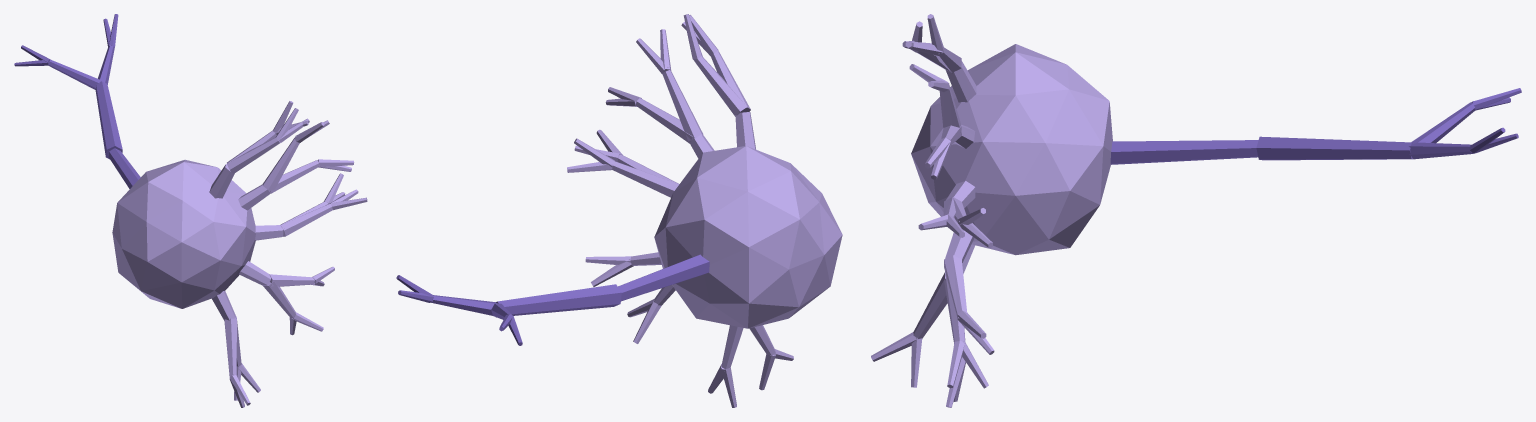
The model's file is neuron.obj.
3 views of the same model, side by side, from view 1: azimuth 30°, elevation 25°; view 2: azimuth 150°, elevation 25°; view 3: azimuth 270°, elevation 25° (orthographic). The views are drawn at different scales.
Visible parts, largest first — view 1: part0, part37, part26, part30, part36, part5, part16, part38, part23, part29, part9, part12 (+5 smaller); view 2: part0, part37, part36, part26, part33, part19, part23, part41, part29, part30, part2; view 3: part0, part37, part36, part9, part5, part41, part38, part29, part26.
Part boxes in pixels (x1,y1,x2,y2): part0: [112, 159, 255, 308]; part37: [95, 81, 122, 159]; part26: [262, 138, 299, 190]; part30: [227, 137, 280, 173]; part36: [108, 148, 140, 188]; part5: [224, 318, 236, 376]; part16: [280, 203, 332, 236]; part38: [48, 59, 100, 89]; part23: [269, 160, 318, 193]; part29: [209, 164, 234, 198]; part9: [269, 274, 314, 286]; part12: [263, 281, 296, 318]; part0: [654, 146, 842, 328]; part37: [496, 284, 621, 317]; part36: [618, 254, 709, 301]; part26: [662, 70, 703, 141]; part33: [694, 56, 746, 116]; part19: [611, 161, 678, 197]; part23: [636, 98, 692, 143]; part41: [431, 295, 496, 315]; part29: [735, 112, 755, 149]; part30: [710, 51, 750, 112]; part2: [721, 325, 743, 369]; part0: [911, 44, 1112, 255]; part37: [1256, 136, 1413, 160]; part36: [1110, 140, 1258, 164]; part9: [944, 255, 967, 317]; part5: [913, 272, 947, 338]; part41: [1409, 142, 1473, 159]; part38: [1411, 102, 1475, 143]; part29: [945, 61, 976, 102]; part26: [939, 85, 961, 134].
Size of the model in its own units: 1.88 by 2.43 by 3.43.
